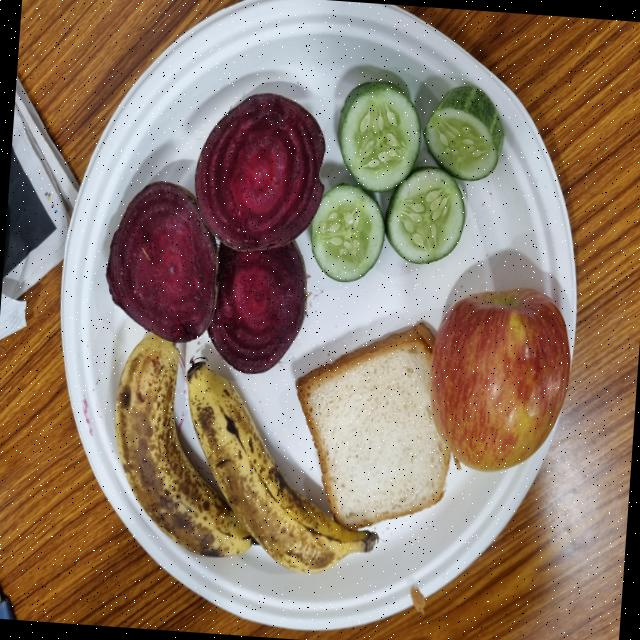apple: (430, 287, 571, 474)
banana: (184, 352, 378, 575), (116, 335, 257, 560)
cucumber: (335, 66, 421, 196), (383, 169, 467, 266), (424, 84, 504, 183), (309, 182, 385, 285)
